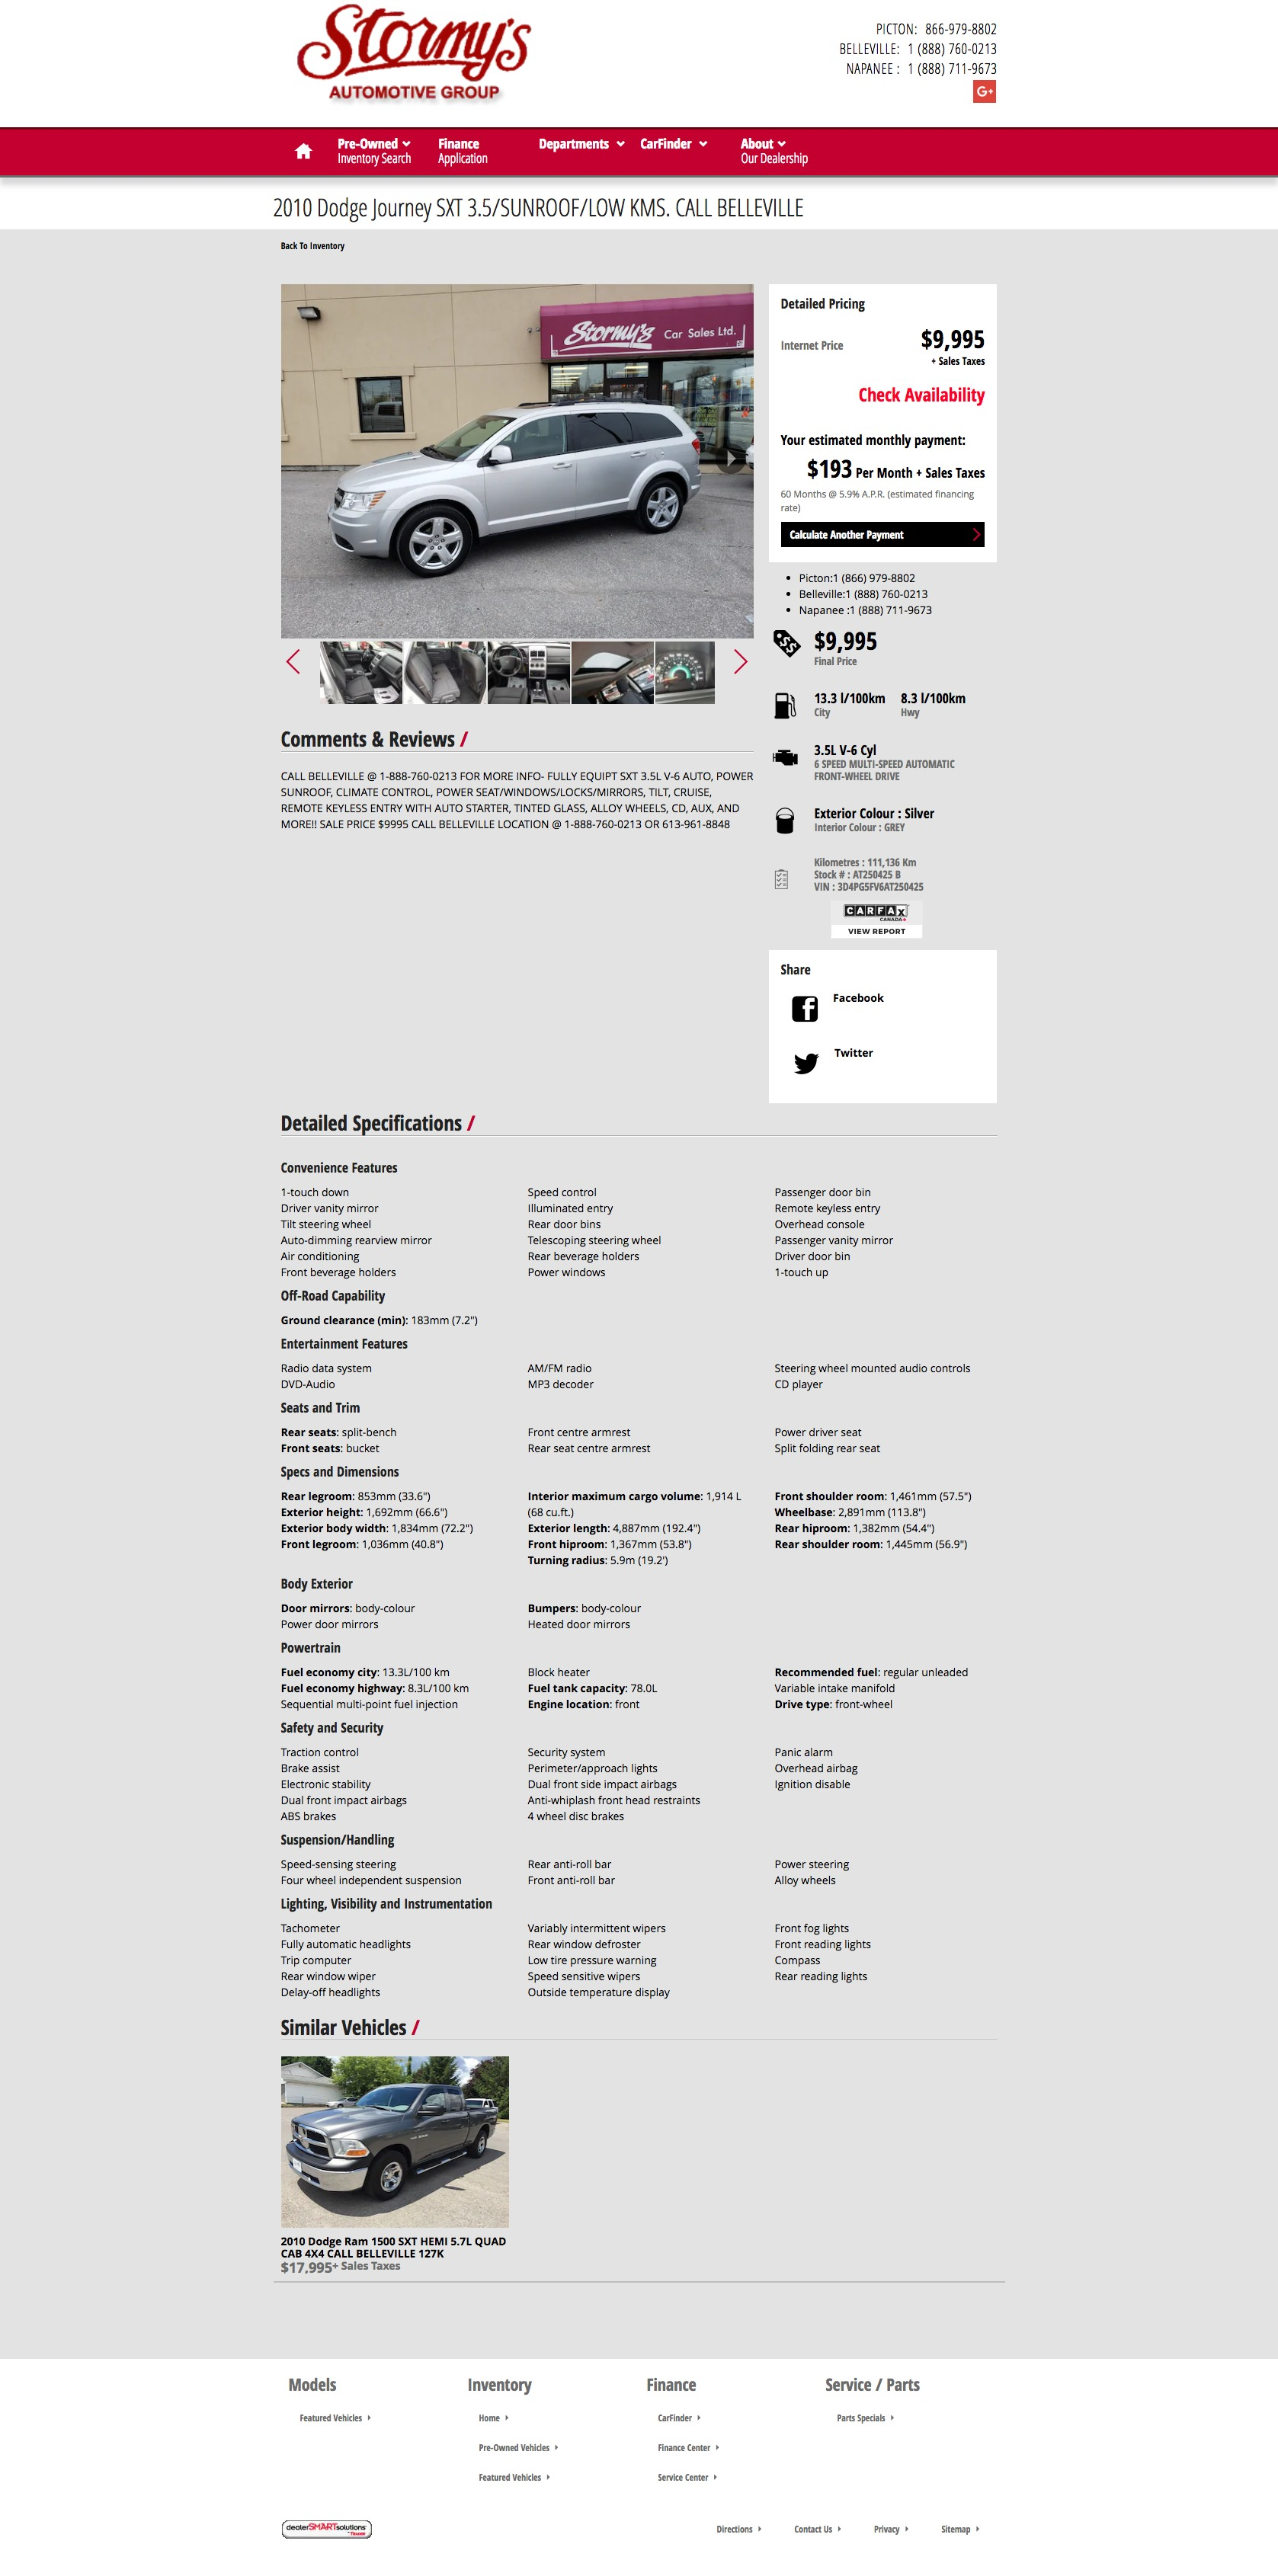car: (733, 649, 751, 675)
